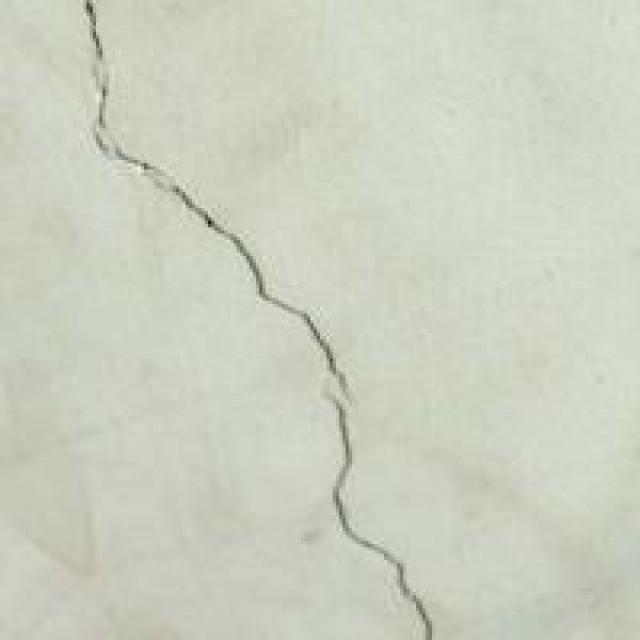crack: (60, 0, 446, 640)
